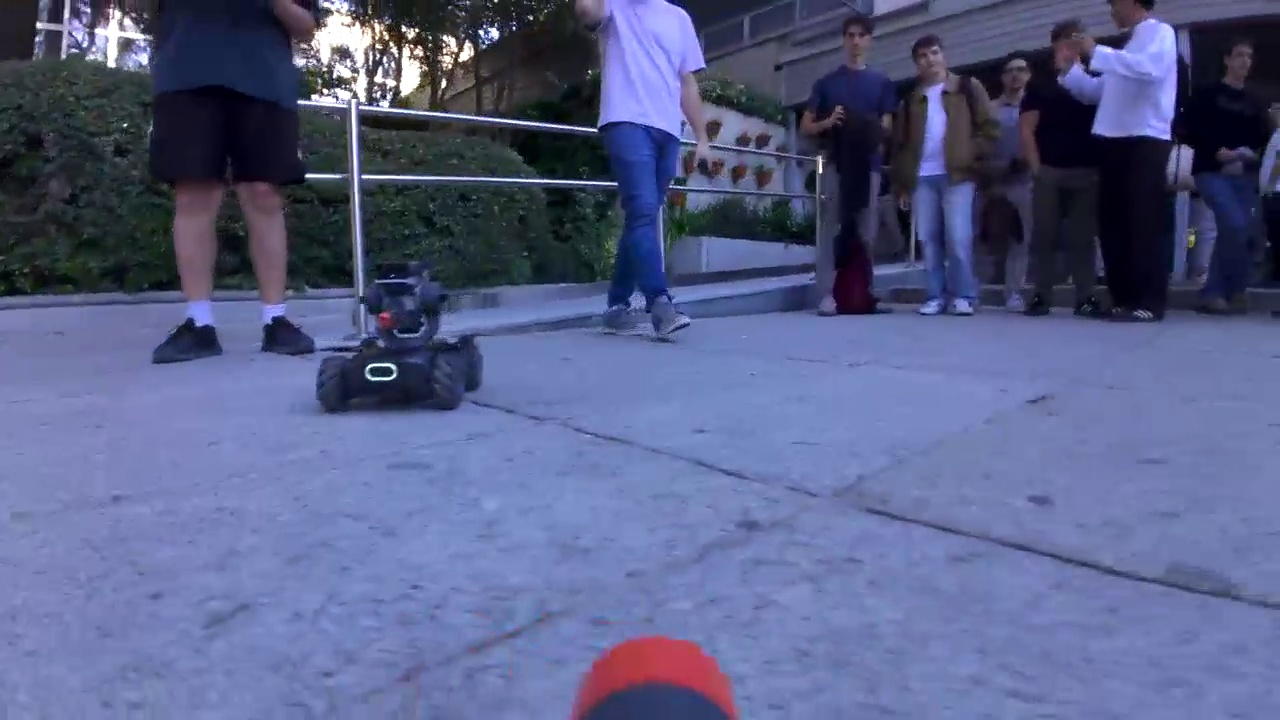robot: (314, 283, 490, 421)
